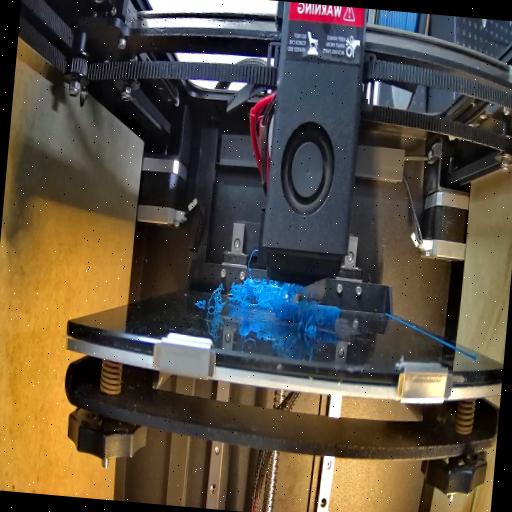spaghetti: (212, 272, 308, 314), (294, 302, 324, 336)
